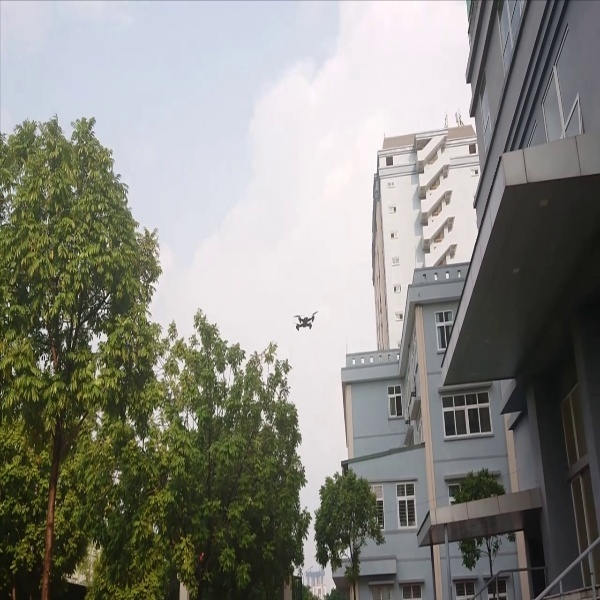drone: (290, 307, 319, 336)
